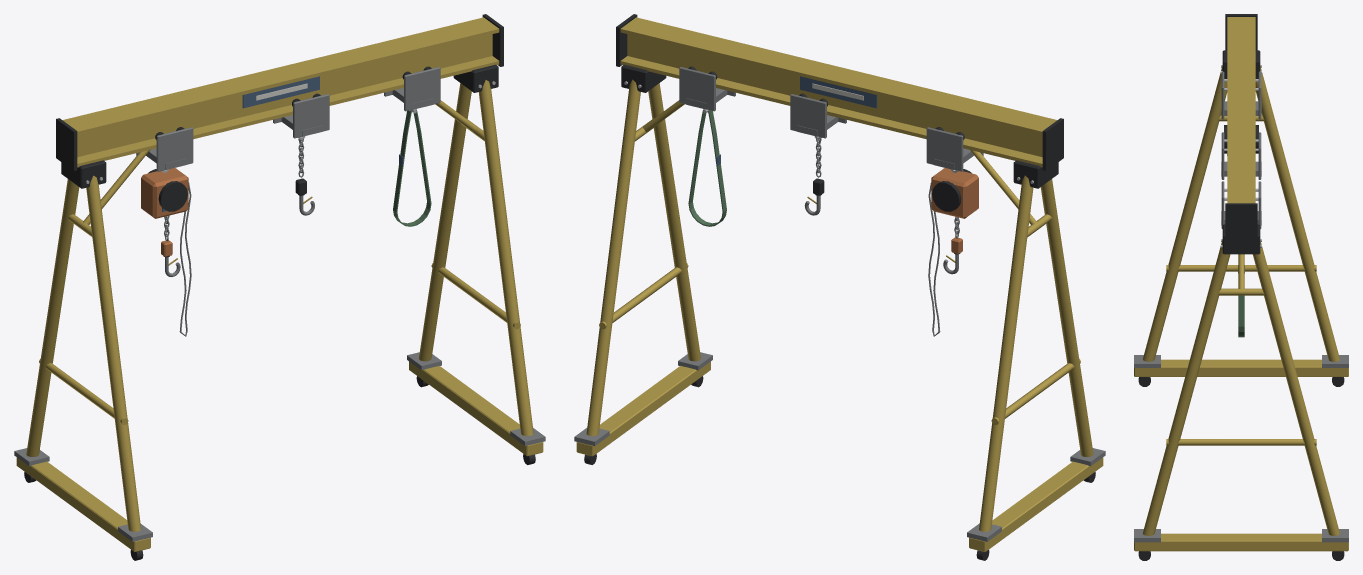
Rendered from astro_rover_hoist_rig.fbx.
3 views of the same model, side by side, from view 1: azimuth 30°, elevation 25°; view 2: azimuth 150°, elevation 25°; view 3: azimuth 270°, elevation 25° (orthographic). The views are drawn at different scales.
Parts seen in each view (by area): view 1: RoverHoistRig_Body; view 2: RoverHoistRig_Body; view 3: RoverHoistRig_Body.
Boxes of the visible parts, x1,y1,x2,y2 form: RoverHoistRig_Body: (14, 14, 545, 560); RoverHoistRig_Body: (574, 14, 1105, 560); RoverHoistRig_Body: (1134, 14, 1348, 560).
Bounding box in the file's own units: 504 × 448 × 240.
